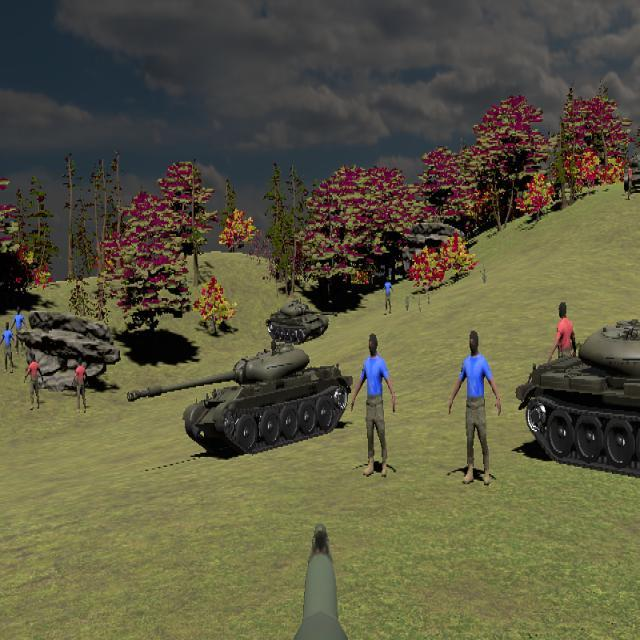Human: (448, 330, 502, 484), (351, 333, 396, 477), (550, 303, 578, 403), (24, 352, 44, 411), (72, 358, 90, 415), (0, 321, 17, 374), (11, 306, 27, 360)
Tank: (127, 348, 353, 457), (517, 316, 640, 481), (265, 300, 339, 344)
